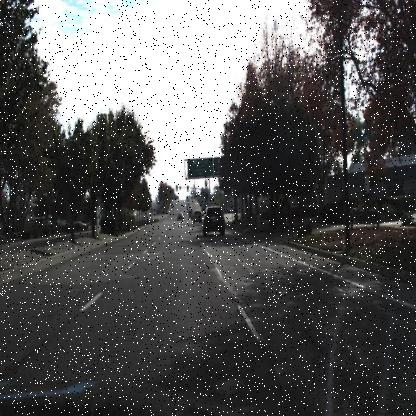car: (202, 206, 225, 238), (191, 206, 202, 230), (191, 210, 202, 225), (176, 211, 183, 222)
trafficLight-Green: (174, 183, 178, 192), (186, 185, 190, 193)
